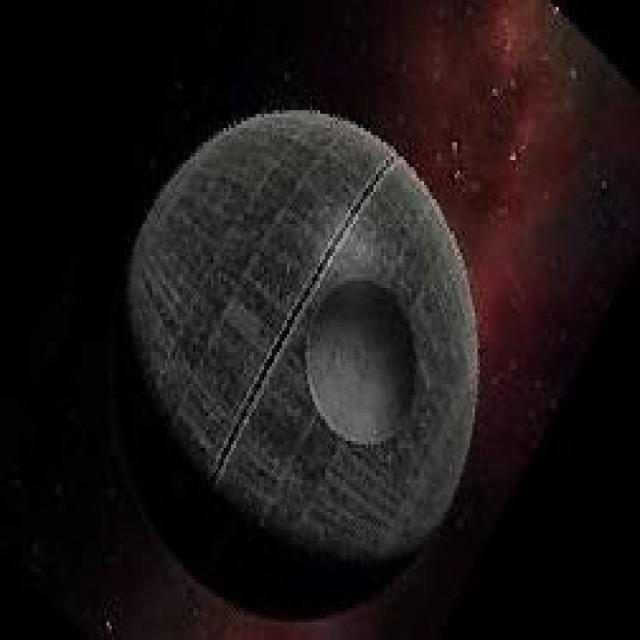Death Star: (104, 109, 483, 620)
